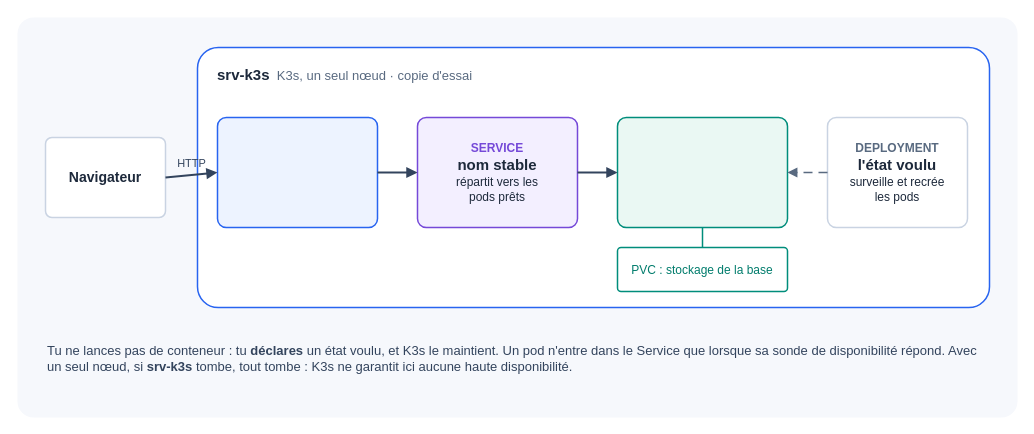
This 1034x434 diagram has some shape labels left out. Each missing label, with the centre of its shape:
INGRESS Traefik aiguille selon le nom d'hôte: point (297, 172)
PODS les conteneurs créés et remplacés par le Deployment: point (702, 172)
